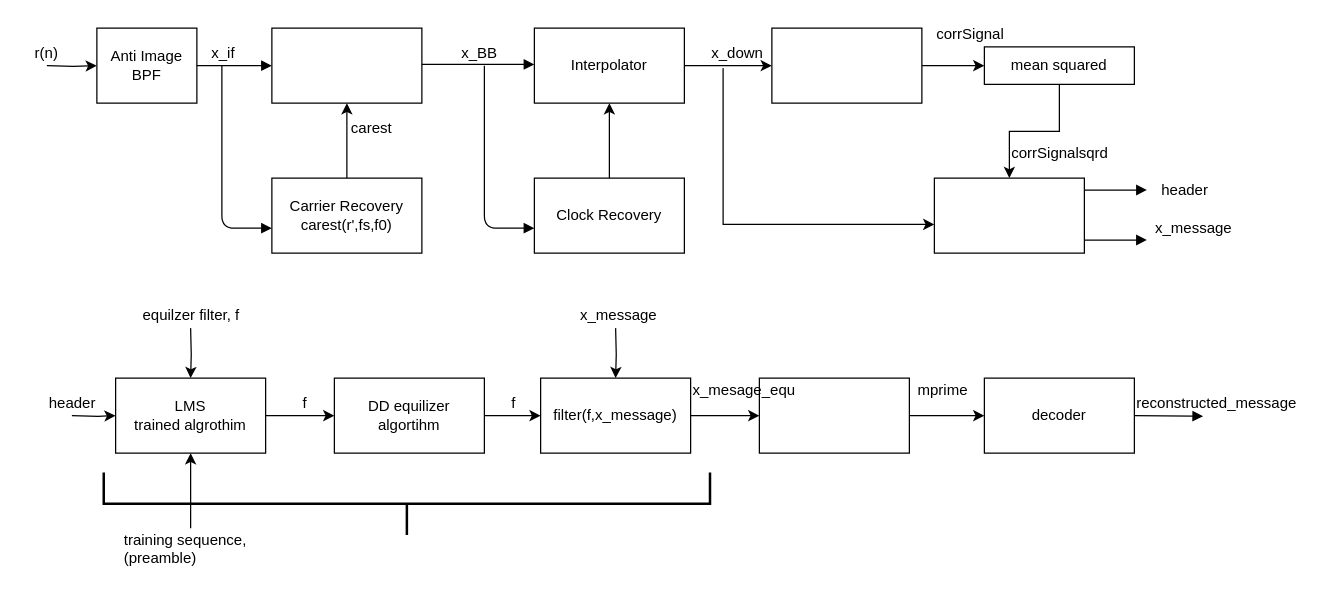
Some shapes in this 1330 by 589 pixel diagram are drawn without their labels. The shapes that lost their labels are listed below. From the top down, each one's box as (x1, y1, x2, y2) in pixels, then its label:
(271, 27, 422, 103): Demodulator
(771, 27, 922, 103): pulse matched filter (correlator)
(933, 177, 1084, 253): Header/ Frame extraction
(758, 377, 909, 453): Decision device (quantizer)
(102, 471, 711, 536): Equalizer
